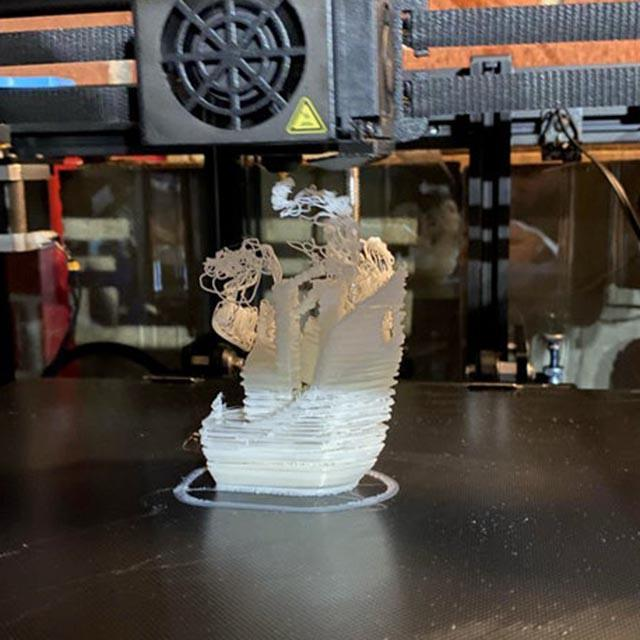Spaghetti: (196, 170, 401, 358)
